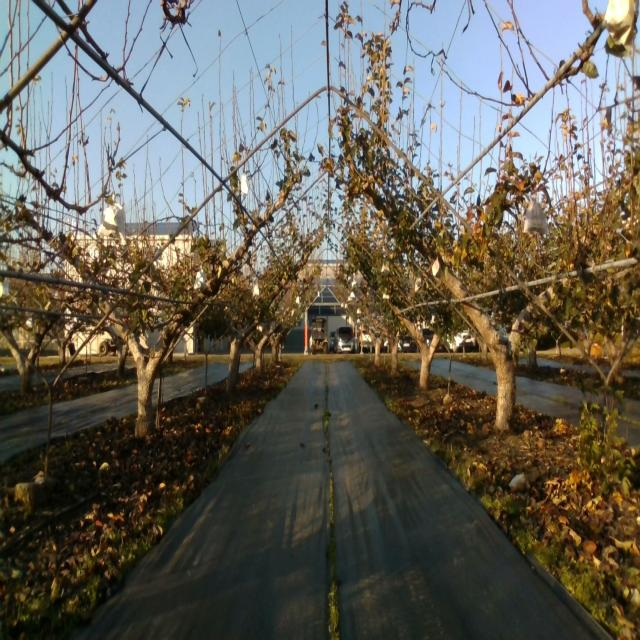pearbags: (603, 0, 635, 53), (99, 195, 127, 251), (524, 199, 550, 237), (194, 264, 208, 288)
